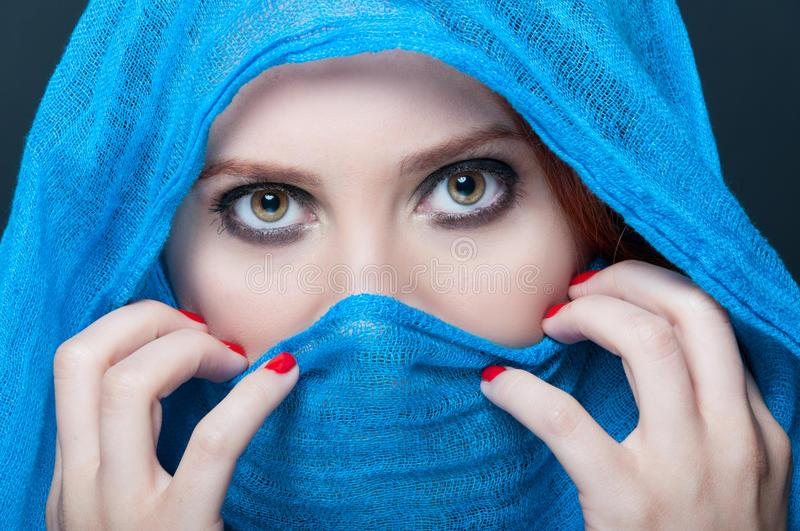No Mask: (52, 4, 790, 531)
